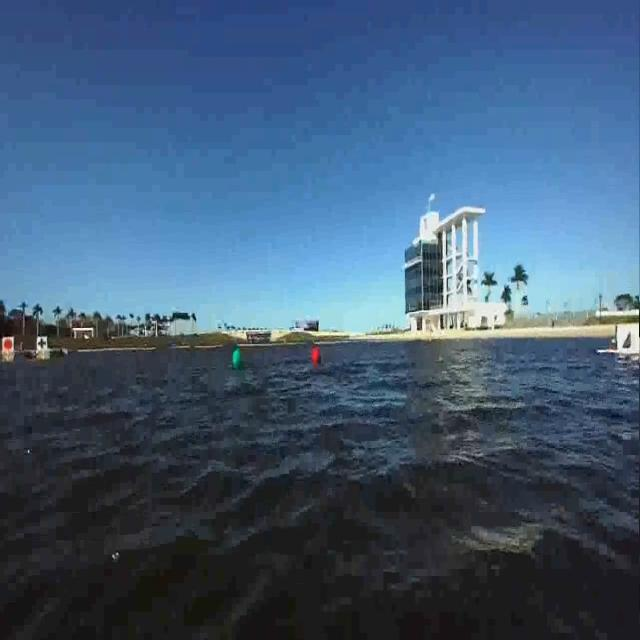green-buoy: (227, 345, 243, 371)
red-buoy: (312, 349, 322, 367)
